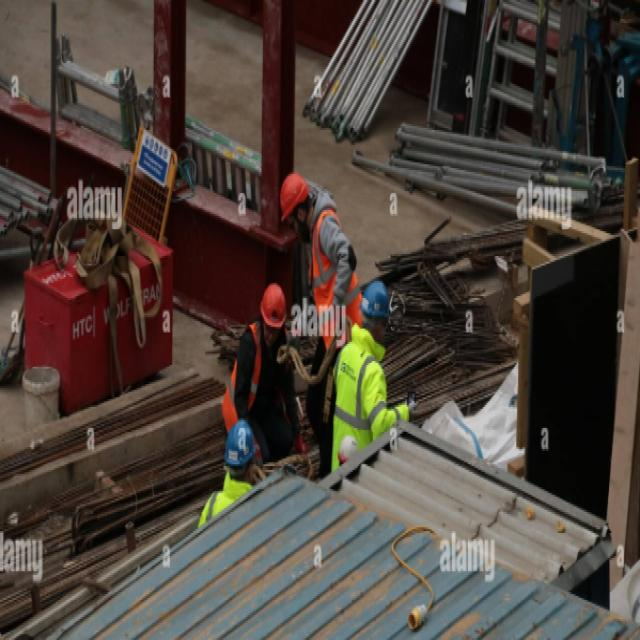hard_hat: (359, 280, 396, 350), (222, 415, 260, 478), (276, 169, 311, 236), (258, 283, 288, 358)
vest: (328, 325, 411, 486), (220, 319, 294, 450), (196, 476, 263, 609), (303, 202, 364, 348)
